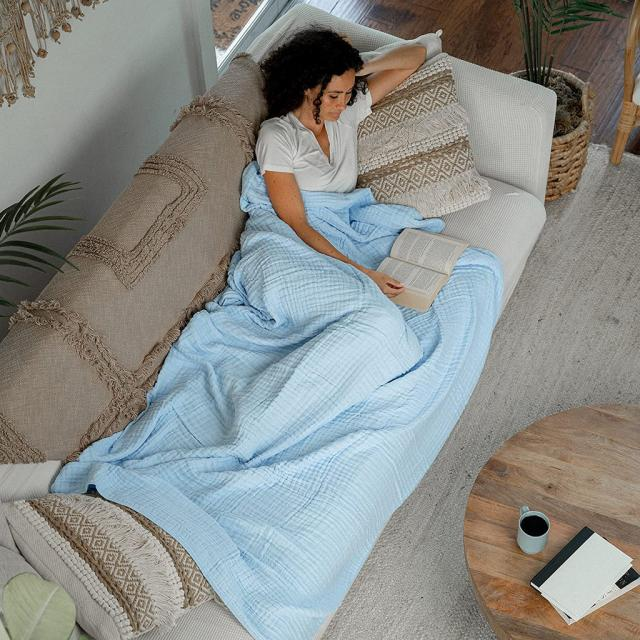blanket: (54, 164, 504, 640), (304, 190, 442, 268)
